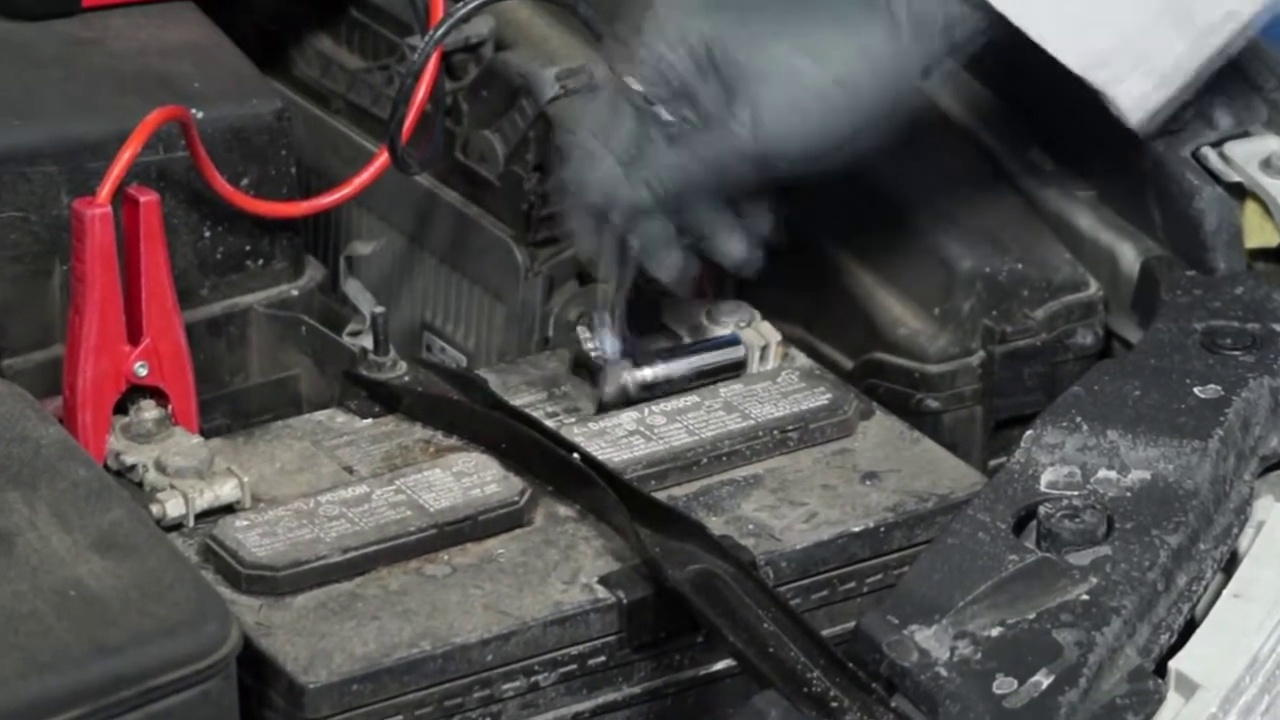battery: (91, 292, 987, 579)
neg_connected: (653, 230, 792, 392)
pos_connected: (51, 274, 259, 517)
